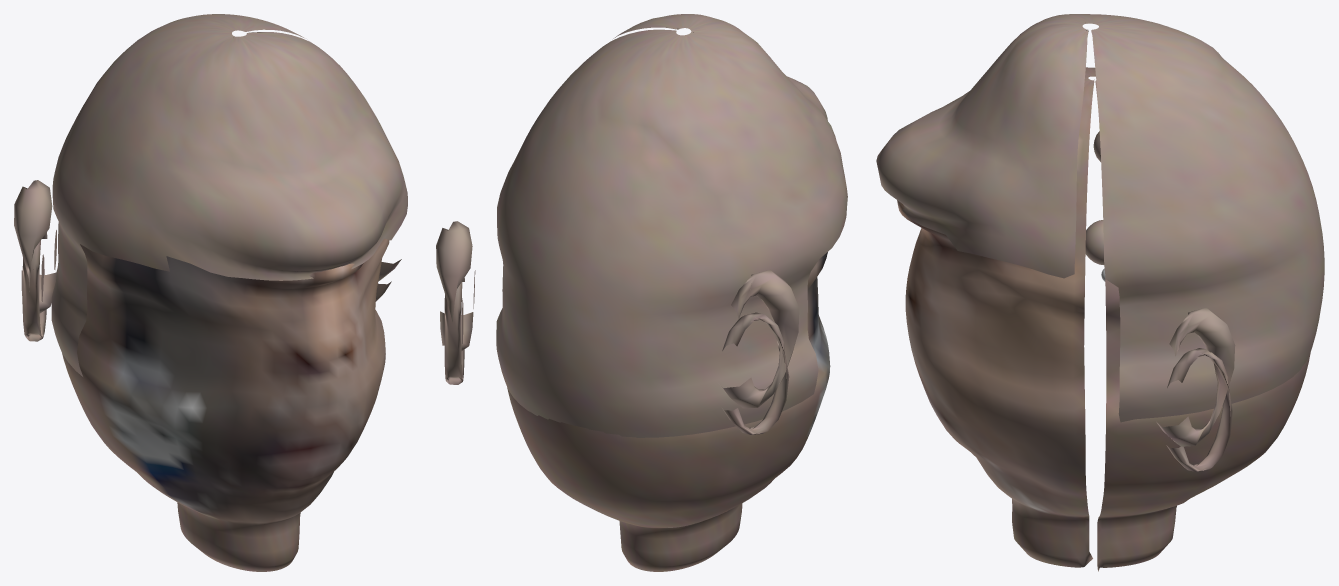
The model's file is avatar_v2_de7f912d.glb.
3 views of the same model, side by side, from view 1: azimuth 30°, elevation 25°; view 2: azimuth 150°, elevation 25°; view 3: azimuth 270°, elevation 25° (orthographic).
Parts seen in each view (by area): view 1: world; view 2: world; view 3: world.
Part boxes in pixels (bbox=[...]): world: bbox=[14, 14, 407, 571]; world: bbox=[436, 14, 847, 571]; world: bbox=[876, 14, 1324, 571].
Size of the model in its own units: 0.1118 by 0.1506 by 0.1168.
